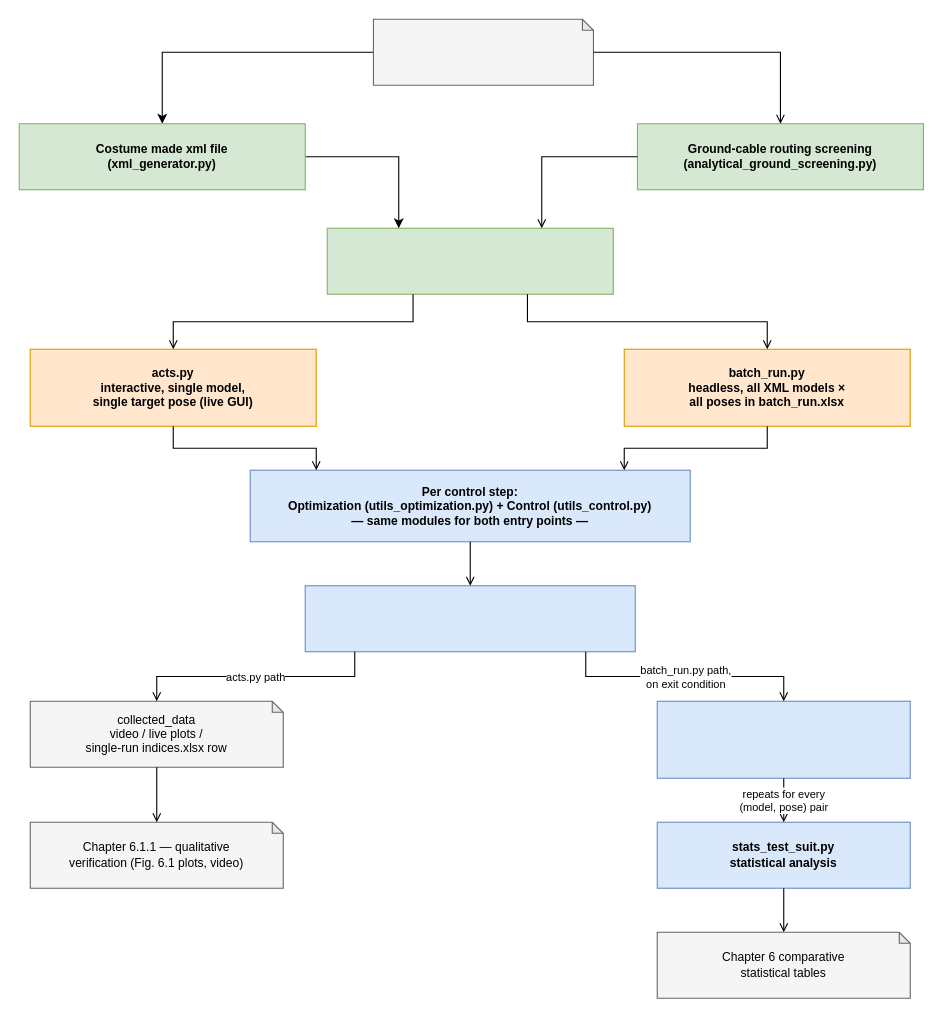
Some shapes in this 943 by 1018 pixel diagram are drawn without their labels. The shapes that lost their labels are listed below. From the top down, each one's box as (x1, y1, x2, y2) in pixels, then its label:
(372, 18, 593, 85): Configuration database (poses_to_analyze.csv, UGV/UAV JSON DB)
(326, 227, 613, 294): MuJoCo XML model generation (xml_config_builder.py)
(304, 585, 635, 652): Performance evaluation (utils_performance_indices.py)
(656, 700, 910, 778): results.xlsx row appended per (model, pose) — at convergence or MAX_ITERATIONS
